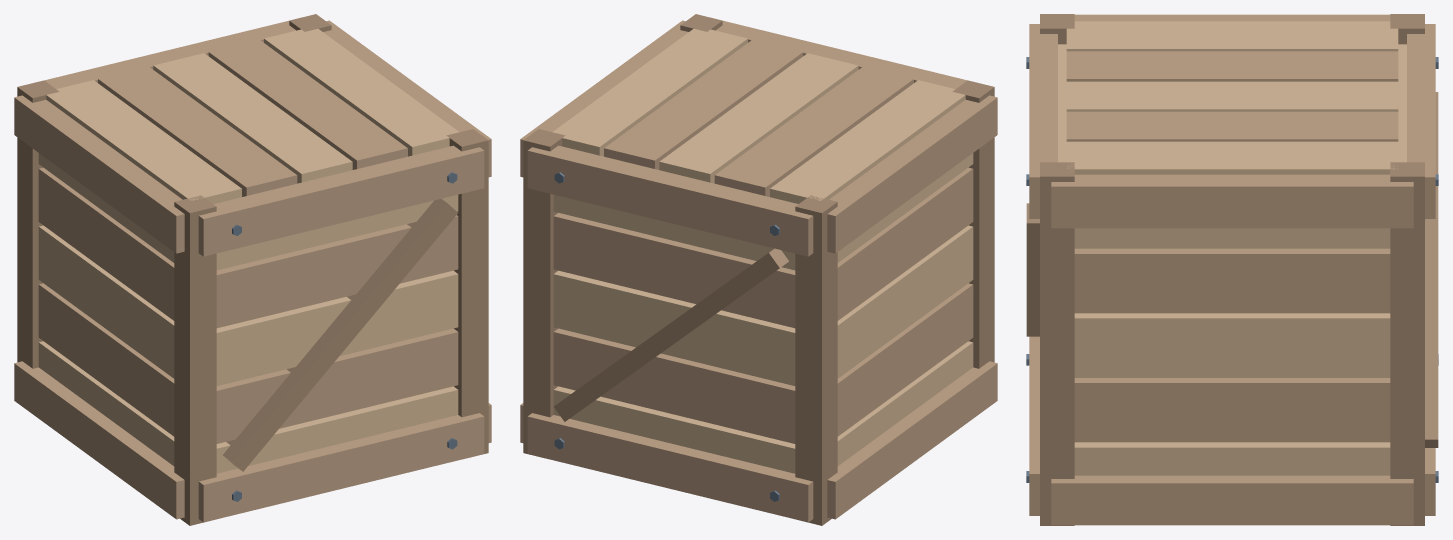
File: wood_crate.glb
3 renders of one model, left to right at view 1: azimuth 30°, elevation 25°; view 2: azimuth 150°, elevation 25°; view 3: azimuth 270°, elevation 25°, orthographic. The views are drawn at different scales.
Parts seen in each view (by area): view 1: crate_front_rail.002, crate_front_rail, crate_front_plank_3_-0.445, crate_front_plank_1_-0.445, crate_front_plank_2_-0.445, crate_corner_post, crate_side_rail.002, crate_diagonal_brace, crate_side_rail, crate_cap_plank_2_0.965, crate_cap_plank_3_0.965, crate_cap_plank_1_0.965 (+13 smaller); view 2: crate_front_rail.003, crate_front_rail.001, crate_front_plank_1_0.445, crate_front_plank_2_0.445, crate_front_plank_3_0.445, crate_corner_post.001, crate_side_rail.002, crate_side_rail, crate_cap_plank_2_0.965, crate_cap_plank_3_0.965, crate_cap_plank_1_0.965, crate_cap_plank_4_0.965 (+13 smaller); view 3: crate_side_plank_3_0.445, crate_side_plank_2_0.445, crate_side_plank_1_0.445, crate_side_rail.003, crate_side_rail.001, crate_cap_plank_4_0.965, crate_side_plank_0_0.445, crate_corner_post.002, crate_corner_post.003, crate_cap_plank_1_0.965, crate_cap_plank_2_0.965, crate_cap_plank_3_0.965 (+13 smaller).
Part boxes in pixels (bbox=[...]): crate_front_rail.002: bbox=[198, 145, 484, 256]; crate_front_rail: bbox=[198, 413, 484, 522]; crate_front_plank_3_-0.445: bbox=[216, 215, 458, 328]; crate_front_plank_1_-0.445: bbox=[216, 328, 458, 443]; crate_front_plank_2_-0.445: bbox=[216, 270, 458, 385]; crate_corner_post: bbox=[174, 195, 216, 525]; crate_side_rail.002: bbox=[14, 95, 184, 253]; crate_diagonal_brace: bbox=[223, 199, 457, 471]; crate_side_rail: bbox=[14, 361, 184, 519]; crate_cap_plank_2_0.965: bbox=[153, 53, 352, 183]; crate_cap_plank_3_0.965: bbox=[208, 39, 407, 169]; crate_cap_plank_1_0.965: bbox=[98, 66, 297, 196]; crate_front_rail.003: bbox=[527, 145, 813, 256]; crate_front_rail.001: bbox=[527, 413, 813, 522]; crate_front_plank_1_0.445: bbox=[553, 328, 795, 443]; crate_front_plank_2_0.445: bbox=[553, 270, 795, 385]; crate_front_plank_3_0.445: bbox=[553, 213, 795, 328]; crate_corner_post.001: bbox=[795, 195, 837, 525]; crate_side_rail.002: bbox=[827, 95, 997, 253]; crate_side_rail: bbox=[827, 361, 997, 519]; crate_cap_plank_2_0.965: bbox=[659, 53, 858, 183]; crate_cap_plank_3_0.965: bbox=[604, 39, 803, 169]; crate_cap_plank_1_0.965: bbox=[714, 66, 913, 196]; crate_cap_plank_4_0.965: bbox=[552, 28, 747, 156]; crate_side_plank_3_0.445: bbox=[1074, 248, 1390, 313]; crate_side_plank_2_0.445: bbox=[1074, 313, 1390, 377]; crate_side_plank_1_0.445: bbox=[1074, 378, 1390, 442]; crate_side_rail.003: bbox=[1051, 174, 1413, 228]; crate_side_rail.001: bbox=[1051, 475, 1413, 525]; crate_cap_plank_4_0.965: bbox=[1066, 141, 1398, 174]; crate_side_plank_0_0.445: bbox=[1074, 442, 1390, 475]; crate_corner_post.002: bbox=[1040, 162, 1074, 525]; crate_corner_post.003: bbox=[1390, 162, 1424, 525]; crate_cap_plank_1_0.965: bbox=[1066, 51, 1398, 81]; crate_cap_plank_2_0.965: bbox=[1066, 81, 1398, 111]; crate_cap_plank_3_0.965: bbox=[1066, 111, 1398, 141].
Bounding box in the file's own units: 1.06 × 1 × 1.07.
